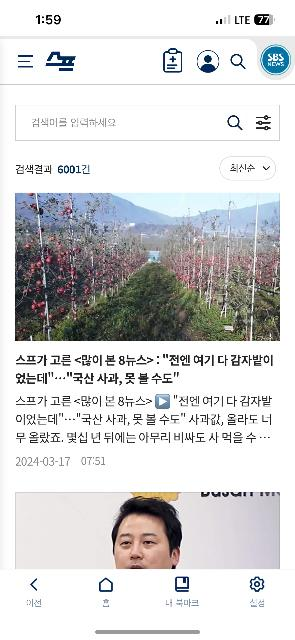Bottom_Navigation: (0, 570, 295, 640)
EditText: (16, 106, 280, 140)
Icon: (198, 49, 220, 72), (163, 48, 182, 72), (230, 54, 246, 70), (250, 576, 266, 592), (256, 116, 272, 130), (176, 576, 190, 592), (227, 116, 242, 130), (18, 56, 34, 68), (100, 577, 112, 591), (31, 578, 38, 590), (264, 166, 270, 170)
Image: (15, 193, 280, 341), (15, 492, 280, 568)
ImageButton: (262, 45, 292, 75)
Text: (16, 394, 272, 444), (15, 354, 273, 386), (16, 458, 104, 467), (32, 118, 116, 126), (46, 51, 76, 71), (16, 166, 90, 174), (230, 162, 256, 174), (166, 599, 200, 607), (27, 600, 41, 606), (251, 600, 265, 606), (102, 600, 110, 606)
TextImageButton: (219, 156, 276, 180), (166, 577, 200, 607), (250, 577, 266, 607), (27, 578, 41, 608), (100, 578, 112, 606)
Toolbar: (0, 38, 295, 85)
UpperTaskBar: (0, 1, 295, 35)
